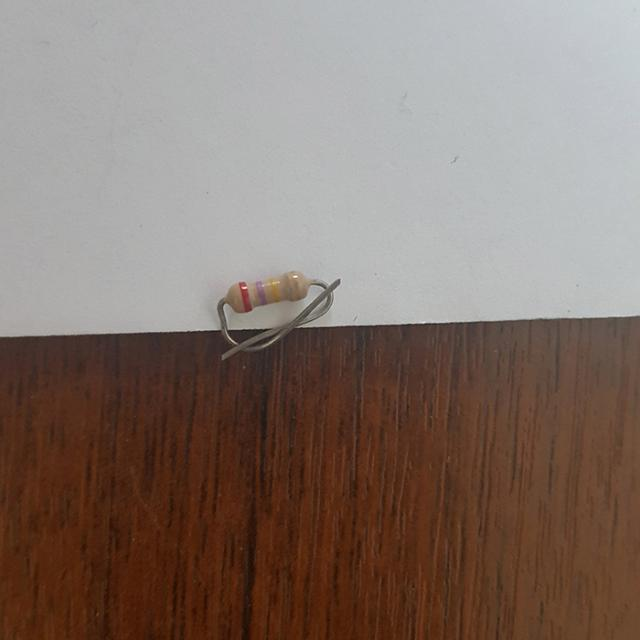gold: (287, 271, 298, 300)
red: (240, 282, 251, 311)
resistor: (211, 257, 323, 323)
violet: (257, 282, 265, 304)
yellow: (271, 279, 279, 301)
